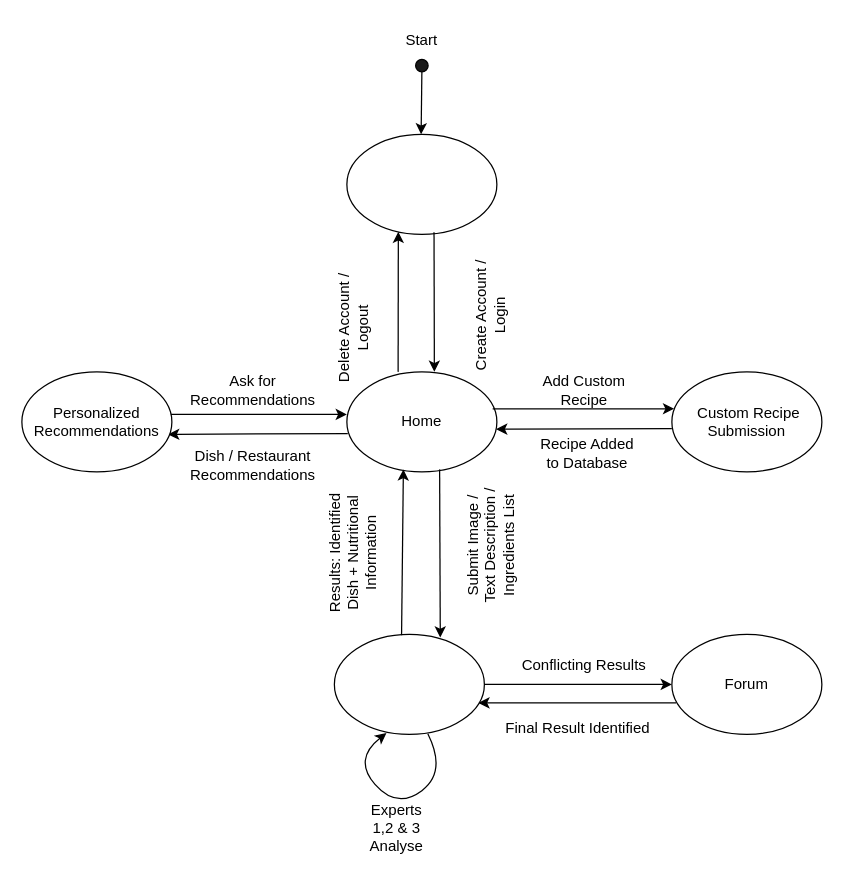
This 844x876 diagram has some shape labels left out. Here are the shapes that lost their labels. From the top down, the centre of each, then its label:
the point at 421,183: Landing
the point at 408,683: What’s That Dish?!
